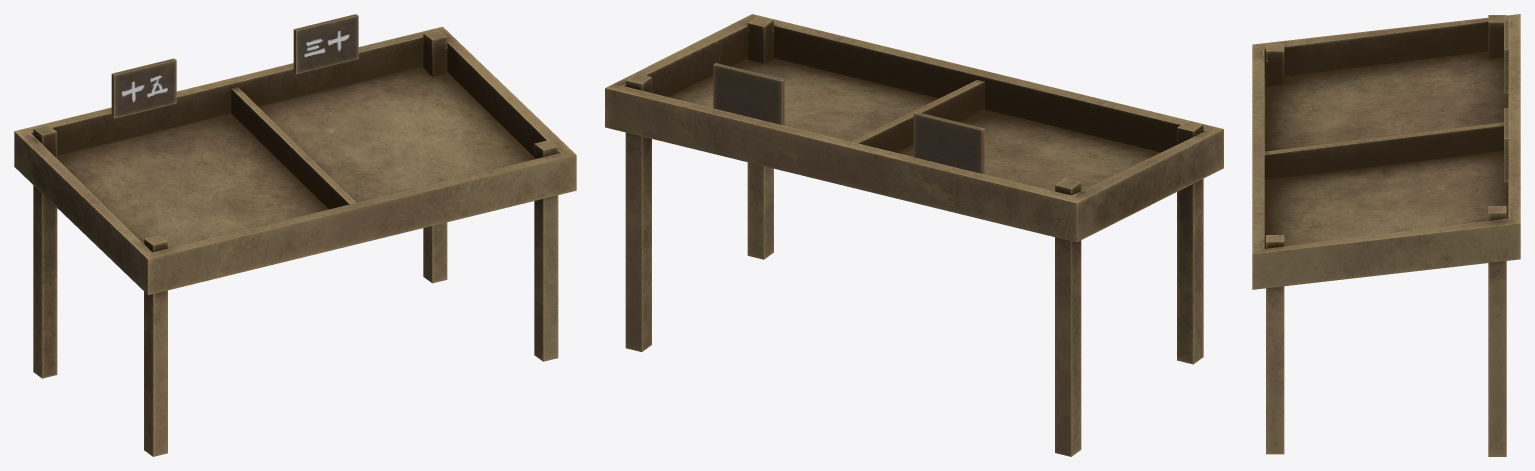
The model's file is SM_markettable_empty_01.fbx.
3 renders of one model, left to right at view 1: azimuth 30°, elevation 25°; view 2: azimuth 150°, elevation 25°; view 3: azimuth 270°, elevation 25°, orthographic. The views are drawn at different scales.
Parts seen in each view (by area): view 1: Object32452; view 2: Object32452; view 3: Object32452.
Part boxes in pixels (x1=…): Object32452: x1=14, y1=14, x2=576, y2=456; Object32452: x1=605, y1=14, x2=1223, y2=456; Object32452: x1=1252, y1=14, x2=1520, y2=456.
Bounding box in the file's own units: 75.31 × 46.69 × 40.72.
